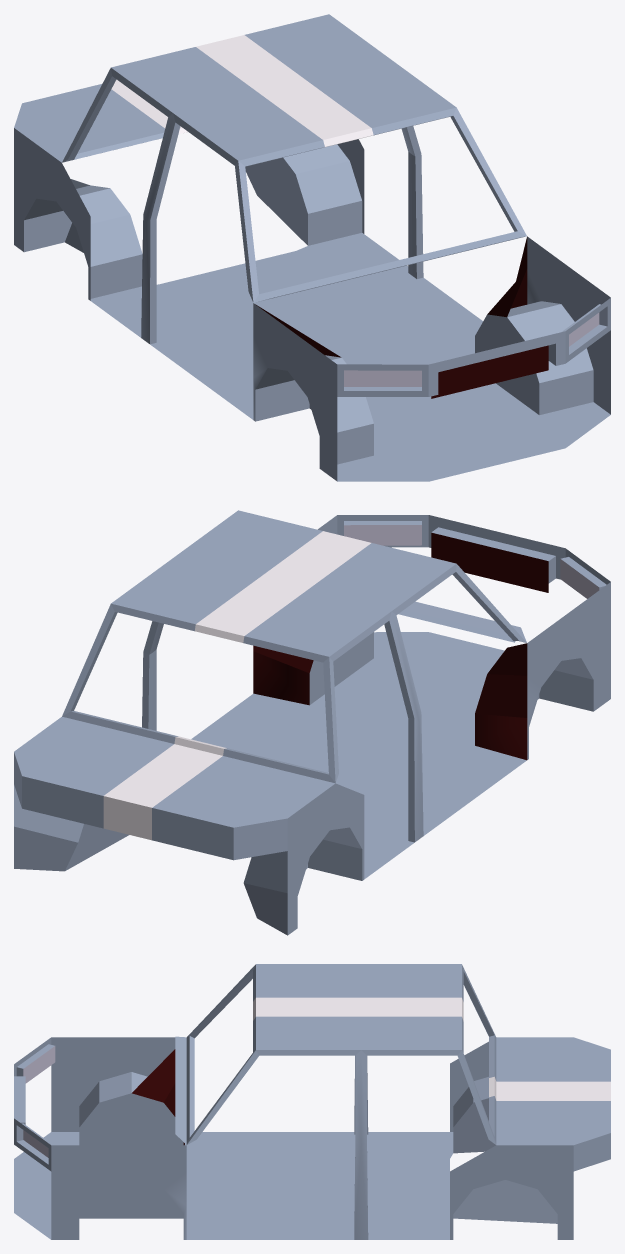
File: car3Carcas.fbx
3 views of the same model, one above another, from view 1: azimuth 30°, elevation 25°; view 2: azimuth 150°, elevation 25°; view 3: azimuth 270°, elevation 25° (orthographic). The views are drawn at different scales.
Visible parts, largest first — view 1: carcas; view 2: carcas; view 3: carcas.
Boxes of the visible parts, <box> form: carcas: <box>14,14,610,481</box>; carcas: <box>14,510,610,935</box>; carcas: <box>14,964,610,1239</box>.
Size of the model in its own units: 2.2 by 1.7 by 5.14.
